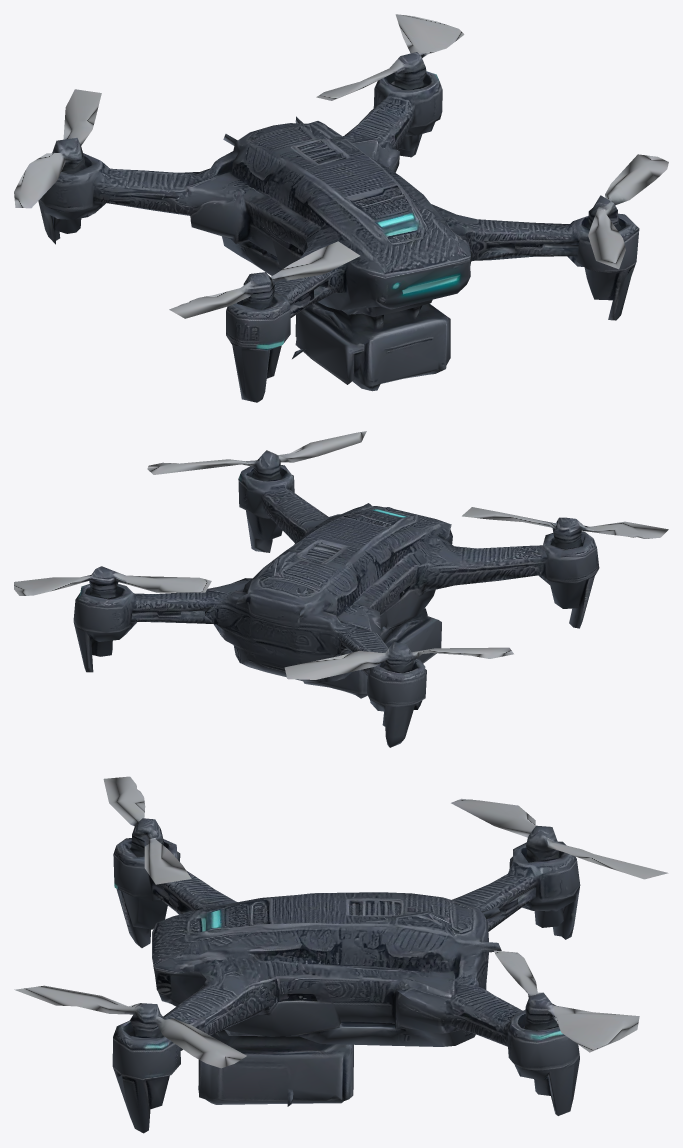
3 renders of one model, top to bottom at view 1: azimuth 30°, elevation 25°; view 2: azimuth 150°, elevation 25°; view 3: azimuth 270°, elevation 25°, orthographic. The views are drawn at different scales.
Parts seen in each view (by area): view 1: tripo_node_7580ff57-da90-469d-8e54-3abbf6f57654; view 2: tripo_node_7580ff57-da90-469d-8e54-3abbf6f57654; view 3: tripo_node_7580ff57-da90-469d-8e54-3abbf6f57654.
Boxes of the visible parts, x1,y1,x2,y2 form: tripo_node_7580ff57-da90-469d-8e54-3abbf6f57654: [14, 14, 668, 402]; tripo_node_7580ff57-da90-469d-8e54-3abbf6f57654: [14, 431, 668, 747]; tripo_node_7580ff57-da90-469d-8e54-3abbf6f57654: [14, 776, 668, 1133].
Size of the model in its own units: 0.8899 by 0.2783 by 0.9.
Materials: 1 (1 with a texture image).
